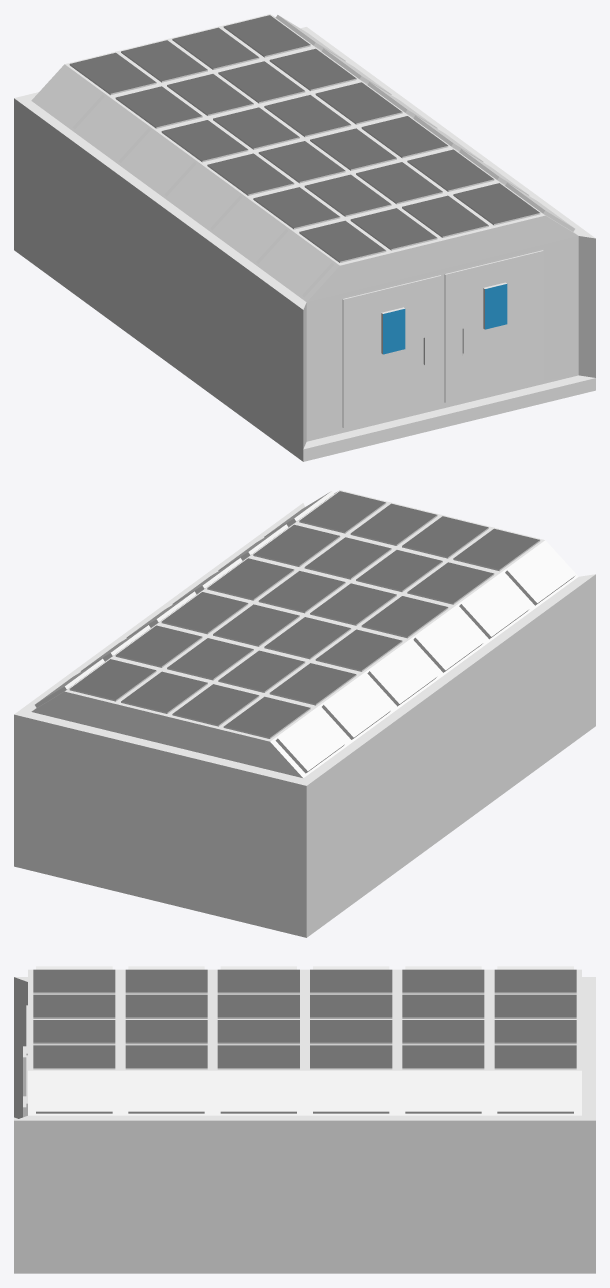
The model's file is Painter.fbx.
The picture shows the model from 3 angles, top to bottom: view 1: azimuth 30°, elevation 25°; view 2: azimuth 150°, elevation 25°; view 3: azimuth 270°, elevation 25°; orthographic projection.
Parts seen in each view (by area): view 1: Plane.002, Plane.001, Plane.003; view 2: Plane.002, Plane.001; view 3: Plane.002, Plane.001.
Part boxes in pixels (x1,y1,x2,y2): Plane.002: (14, 14, 595, 461); Plane.001: (35, 16, 573, 294); Plane.003: (383, 284, 507, 354); Plane.002: (14, 490, 595, 937); Plane.001: (36, 492, 574, 770); Plane.002: (14, 966, 595, 1273); Plane.001: (36, 1071, 573, 1111).
Size of the model in its own units: 561 by 334 by 961.
